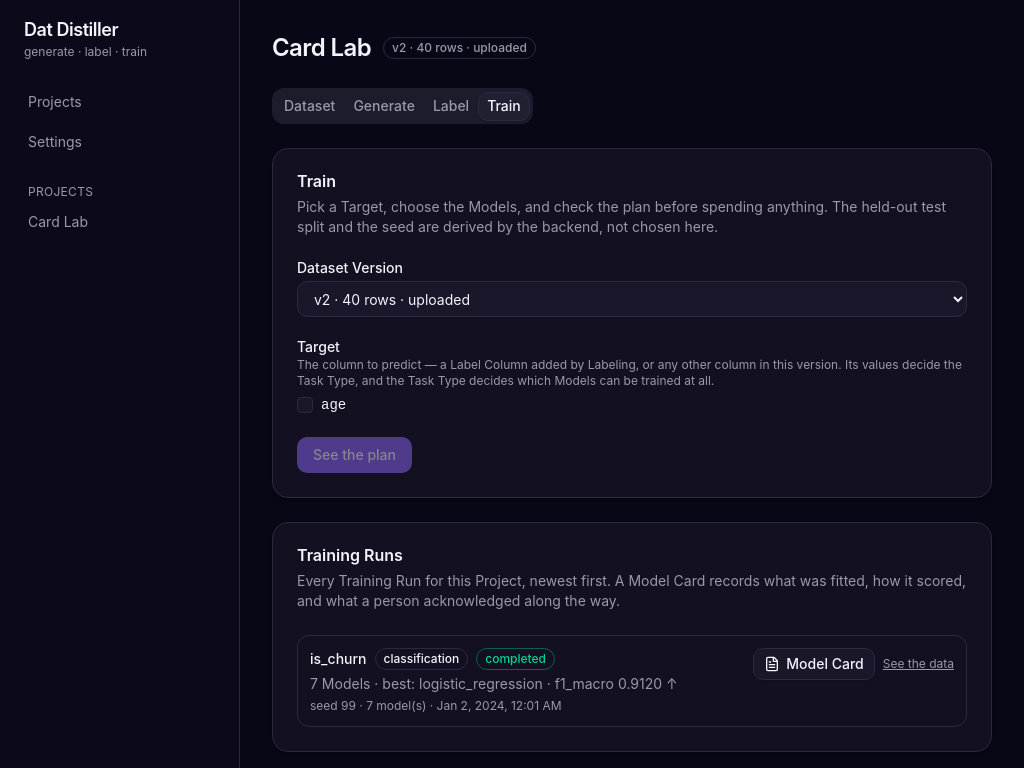
Test: Model Cards — from the Training Runs list › opens a Model Card for a finished run
This screenshot has width=1024, height=768.
Click the button "Model Card". click: (814, 664)
box: [753,648,875,680]
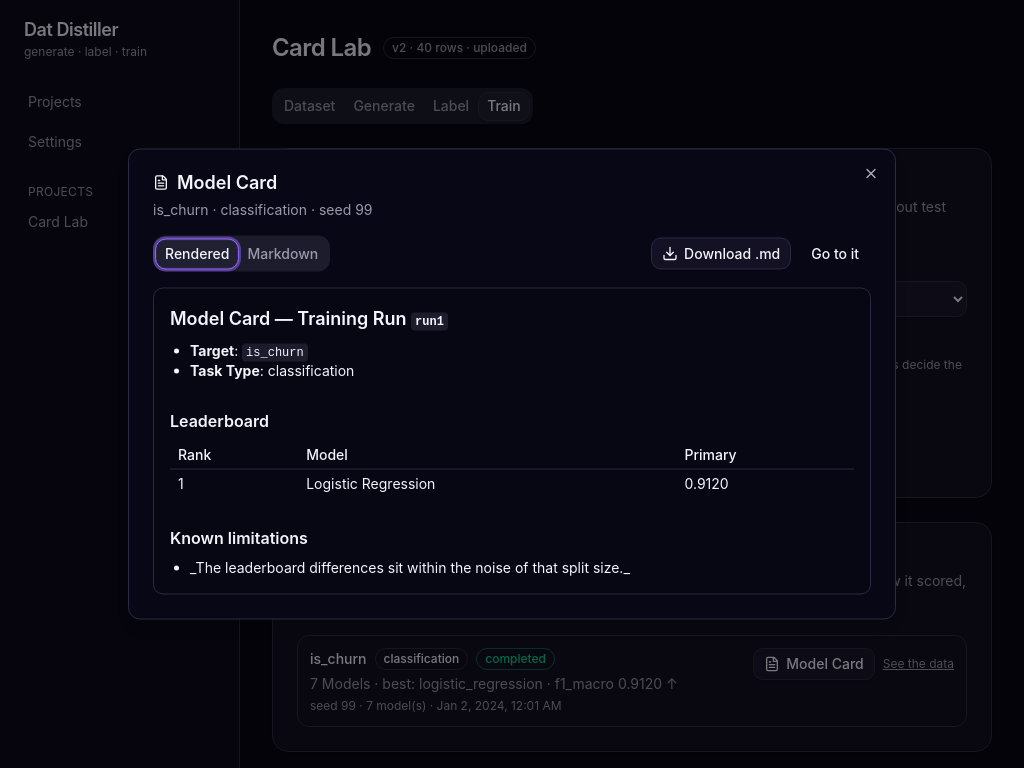
expect the heading "Model Card — Training Run run1" is shown: met, box [170,308,448,330]
expect the heading "Leaderboard" is shown: met, box [170,410,269,430]
